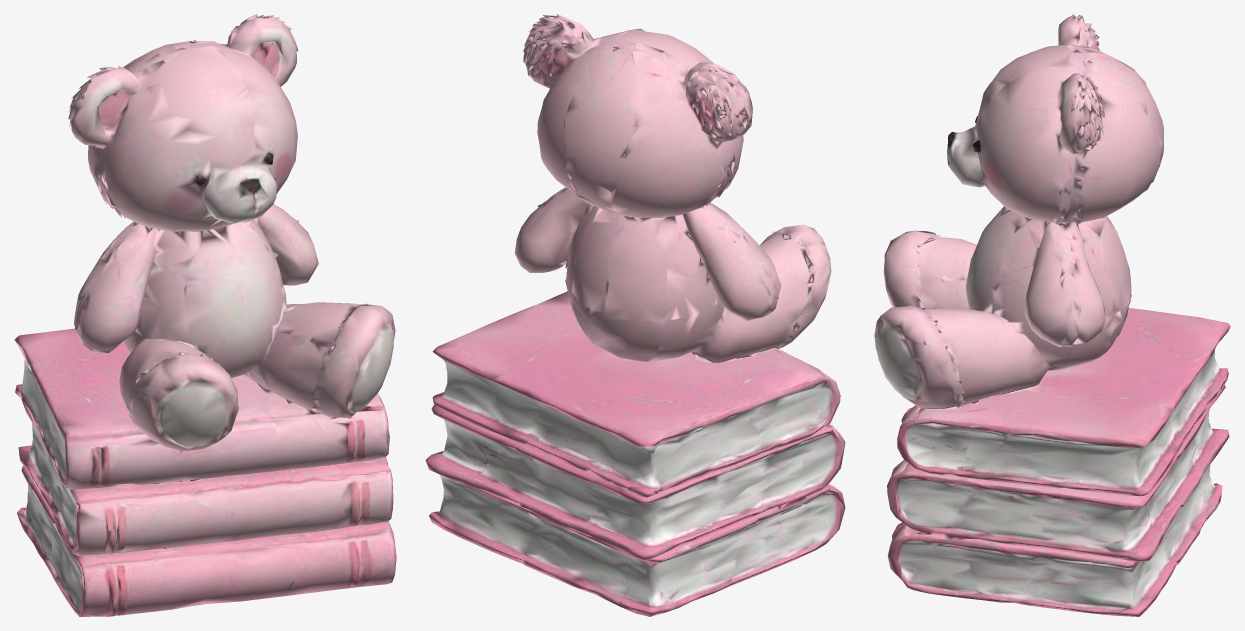
3 renders of one model, left to right at view 1: azimuth 30°, elevation 25°; view 2: azimuth 150°, elevation 25°; view 3: azimuth 270°, elevation 25°, orthographic. The views are drawn at different scales.
Size of the model in its own units: 1.32 by 1.9 by 1.24.
Materials: 1 (1 with a texture image).
